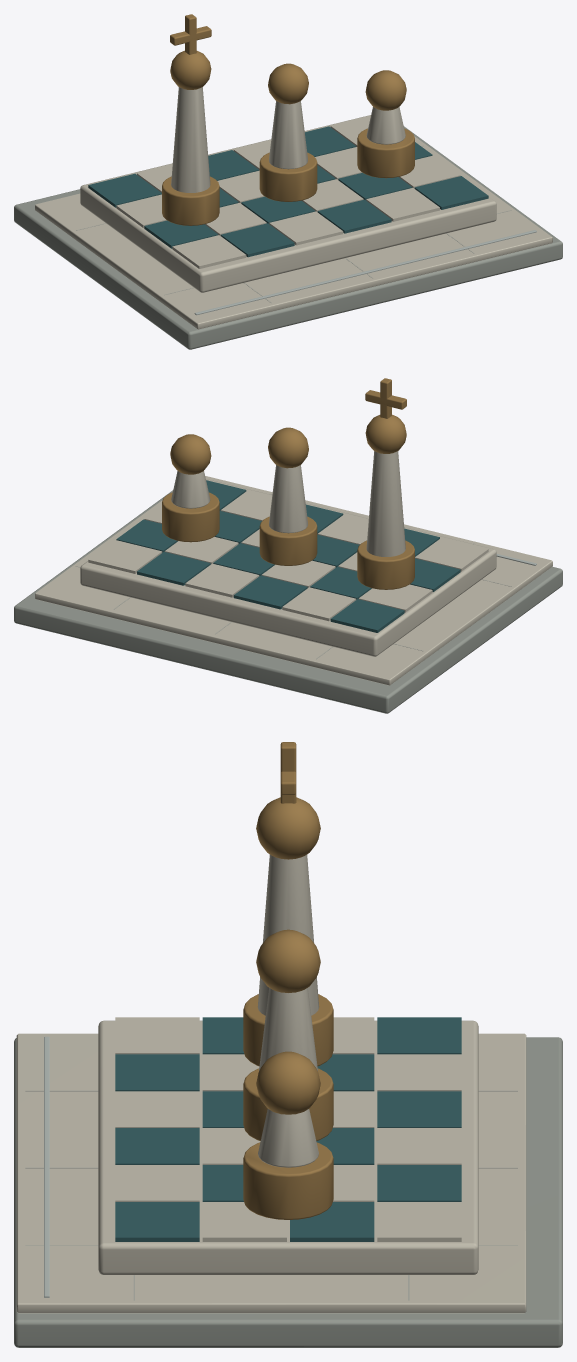
File: idea-237c728e.glb
3 renders of one model, top to bottom at view 1: azimuth 30°, elevation 25°; view 2: azimuth 150°, elevation 25°; view 3: azimuth 270°, elevation 25°, orthographic. The views are drawn at different scales.
Visible parts, largest first — view 1: AI Chess Evolution; view 2: AI Chess Evolution; view 3: AI Chess Evolution.
Boxes of the visible parts, <box> form: AI Chess Evolution: <box>14,14,562,349</box>; AI Chess Evolution: <box>14,378,562,713</box>; AI Chess Evolution: <box>14,742,562,1347</box>.
Bounding box in the file's own units: 4.8 × 3.04 × 3.9.
